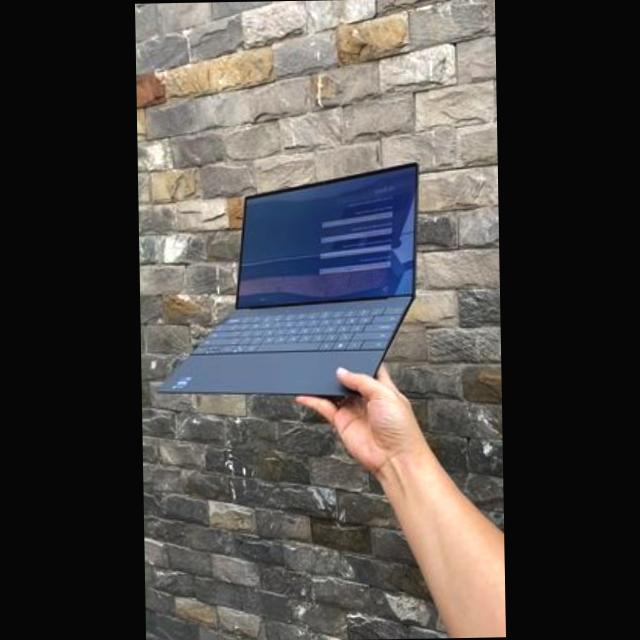laptop: (155, 150, 440, 405)
